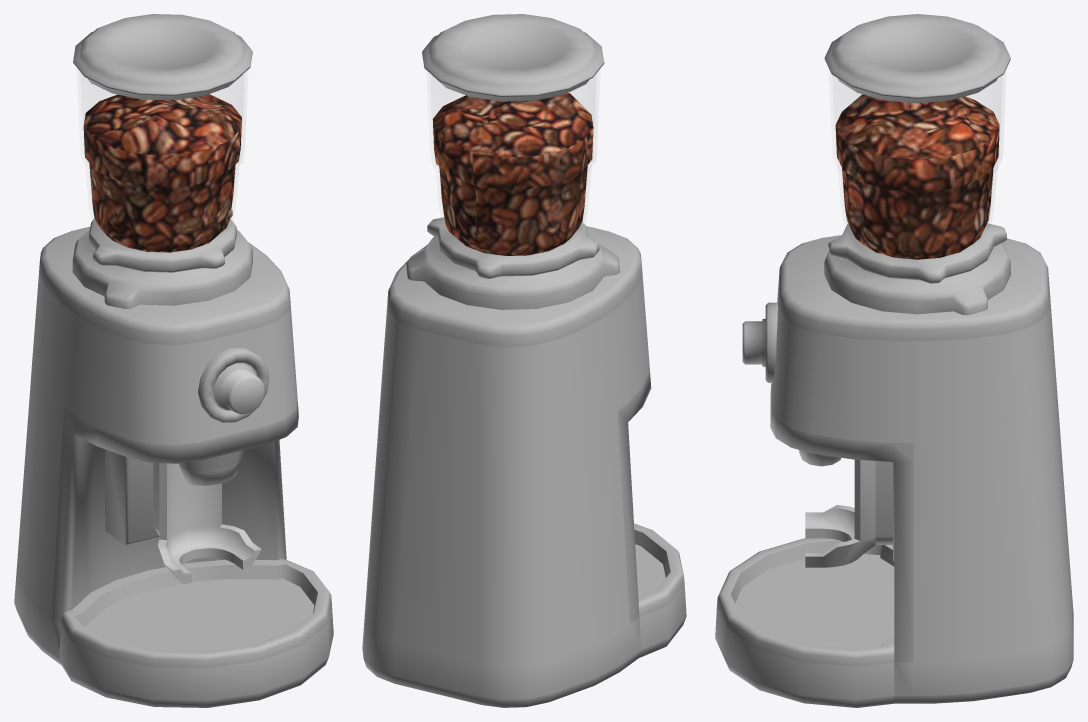
Rendered from Machine_Grinder.fbx.
The picture shows the model from 3 angles, left to right: view 1: azimuth 30°, elevation 25°; view 2: azimuth 150°, elevation 25°; view 3: azimuth 270°, elevation 25°; orthographic projection. The views are drawn at different scales.
Visible parts, largest first — view 1: Grinder, Deposit, Button; view 2: Grinder; view 3: Grinder, Deposit, Button.
Boxes of the visible parts, x1,y1,x2,y2 form: Grinder: [14, 14, 333, 707]; Deposit: [153, 463, 261, 584]; Button: [198, 347, 269, 422]; Grinder: [362, 14, 686, 707]; Grinder: [715, 14, 1073, 707]; Deposit: [805, 459, 892, 567]; Button: [742, 302, 777, 382].
Size of the model in its own units: 0.2147 by 0.2615 by 0.4857.
